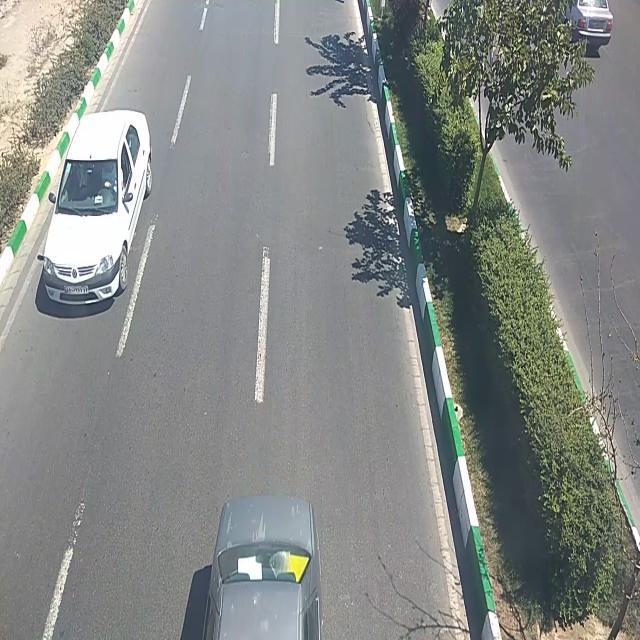car: (36, 112, 152, 309), (203, 494, 324, 640), (560, 2, 616, 52)
